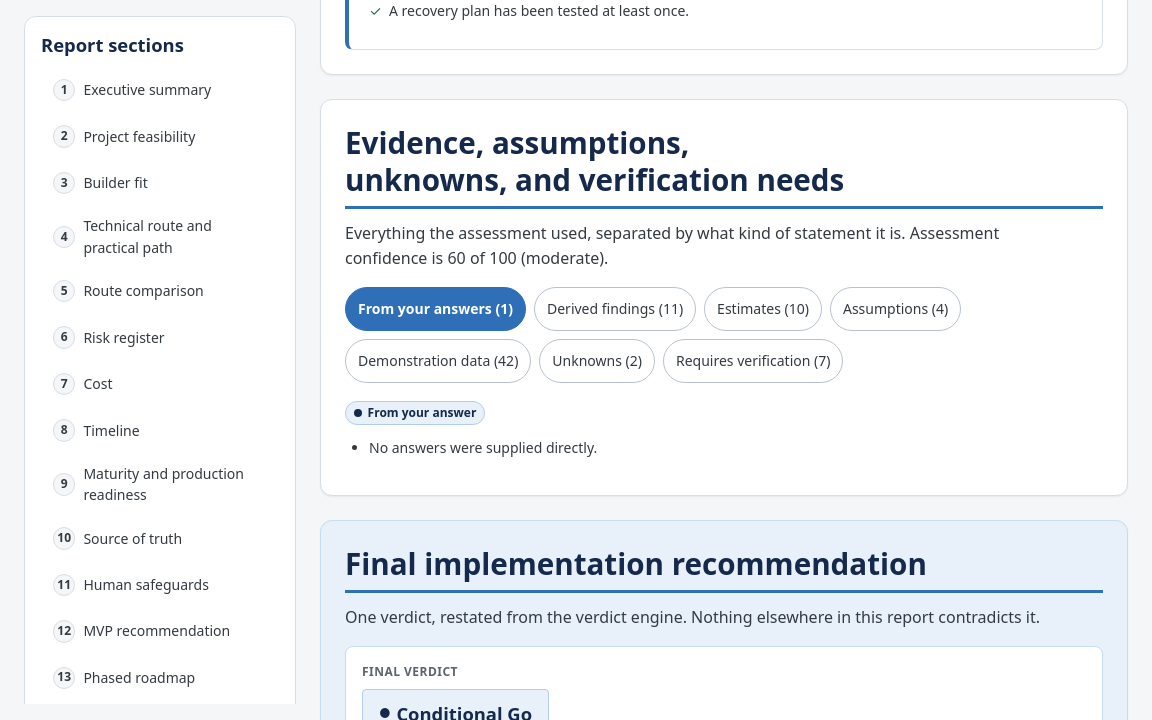
Scenario: MVP, roadmap, and evidence › separates the evidence panels and details each unknown
(page scrolled)
expect the tab "From your answers (1)" is shown: met, box [345,287,526,331]
expect the tab "Derived findings (11)" is shown: met, box [534,287,696,331]
Click the tab "Unknowns (2)" at (597, 361), box [539,339,655,383]
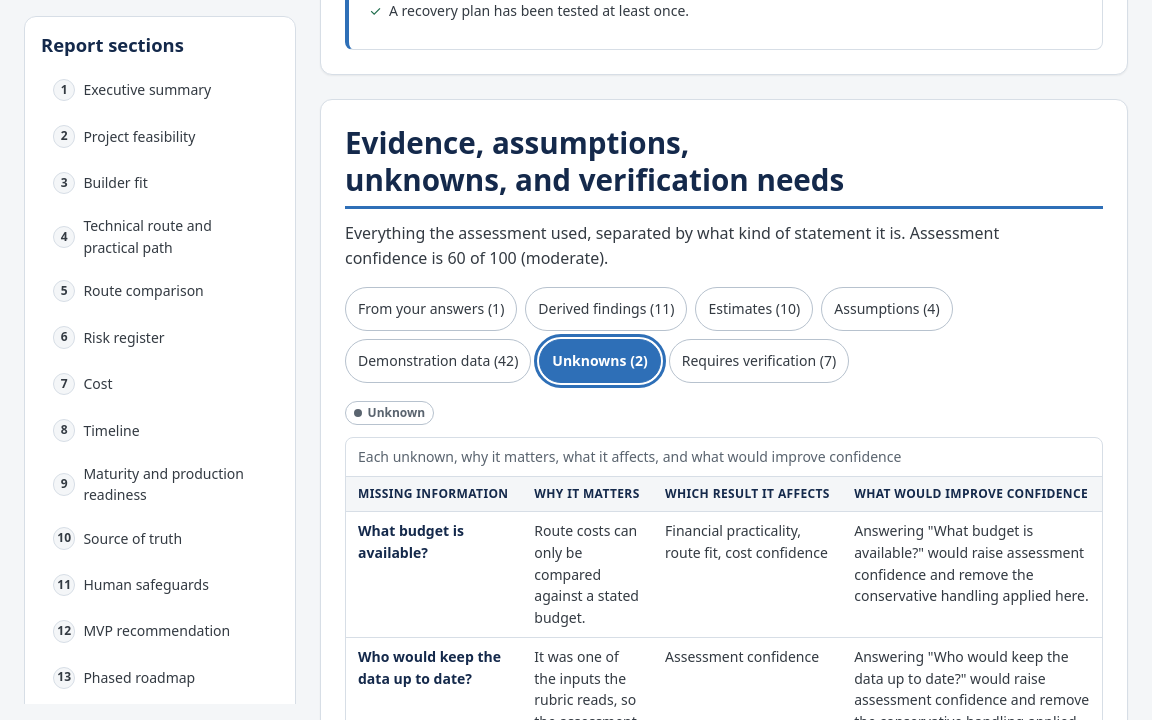
expect the column heading "Why it matters" is shown: met, box [522,477,653,512]
expect the column heading "Which result it affects" is shown: met, box [653,477,842,512]
expect the column heading "What would improve confidence" is shown: met, box [842,477,1102,512]
Click the tab "Requires verification (7)" at (759, 361), box [669,339,849,383]
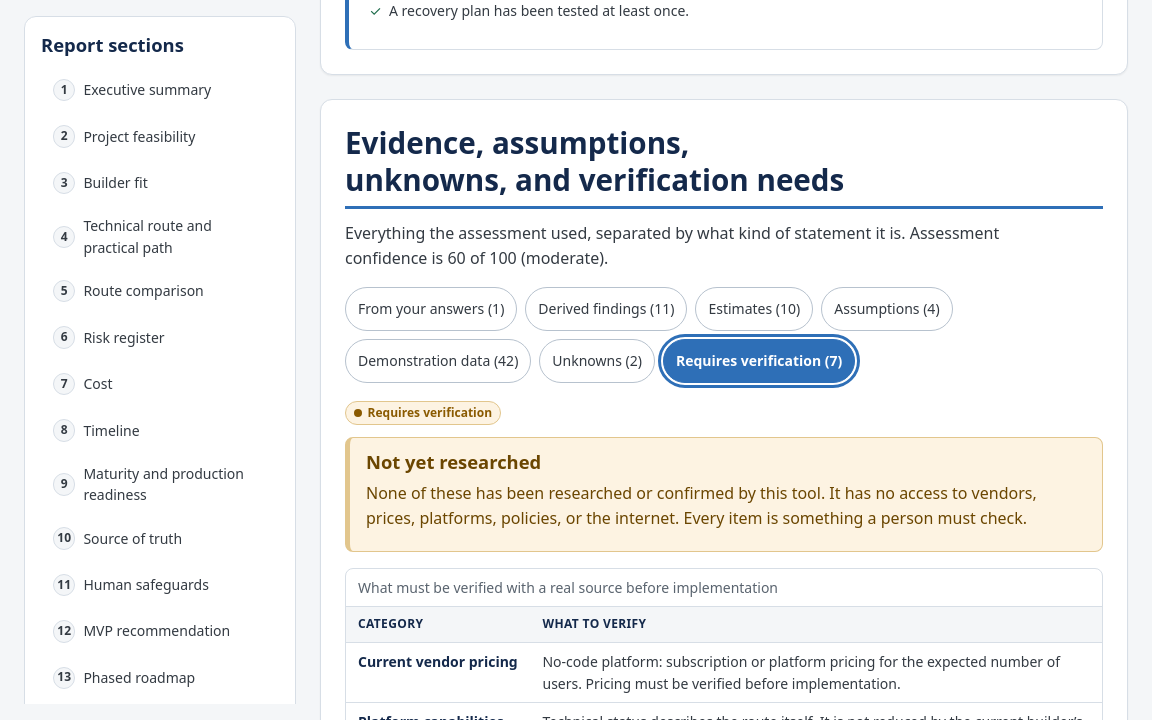
expect the column heading "Current vendor pricing" is shown: met, box [346,642,530,703]
expect the text "None of these has been researched or confirmed by this tool" is shown: met, box [366,482,1037,529]
